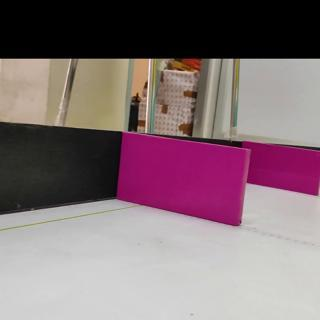xparking: (124, 147, 241, 222), (255, 151, 319, 193)
